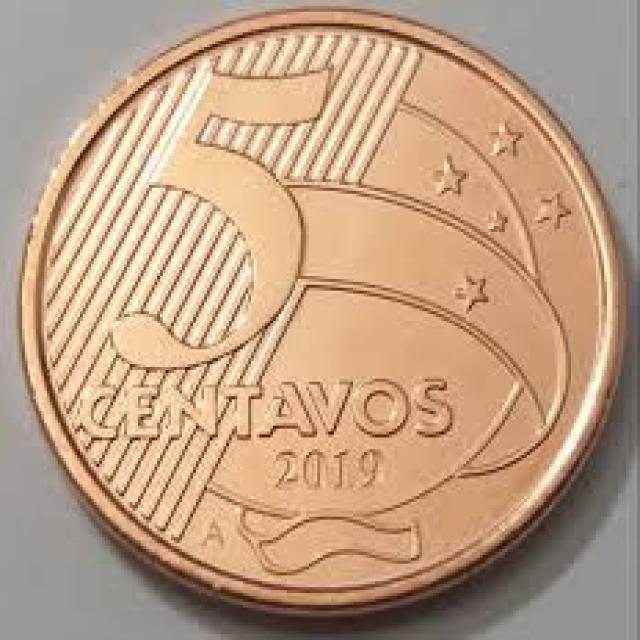5 cent: (31, 28, 618, 604)
